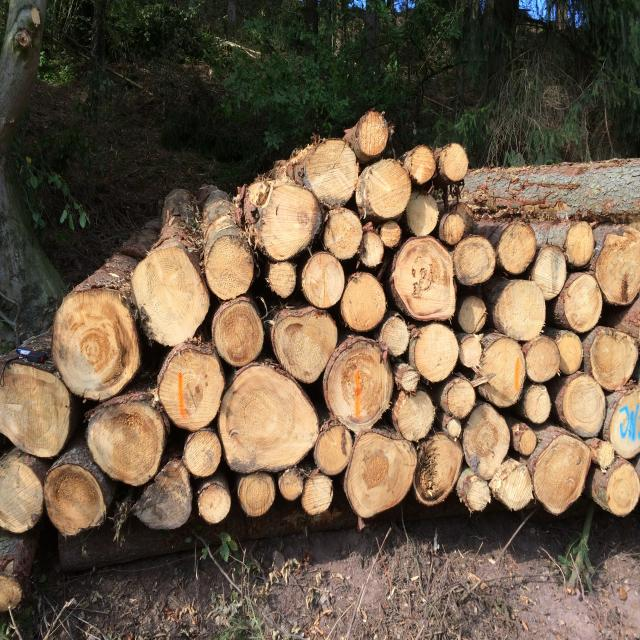wood-log: (216, 363, 317, 473), (52, 289, 140, 401), (131, 248, 209, 346), (88, 396, 168, 488), (322, 336, 394, 430), (0, 361, 70, 457), (344, 432, 417, 520), (158, 348, 227, 429), (390, 240, 455, 322), (273, 309, 341, 385), (255, 181, 321, 259), (534, 429, 594, 512), (44, 464, 106, 536), (137, 462, 194, 529), (463, 403, 513, 477), (305, 140, 361, 206), (210, 297, 263, 366), (412, 434, 462, 506), (0, 455, 44, 535), (476, 336, 526, 406), (594, 230, 640, 304), (201, 237, 254, 301), (559, 372, 608, 437), (358, 158, 411, 217), (588, 328, 636, 391), (495, 279, 546, 338), (339, 271, 387, 330), (411, 322, 459, 381), (559, 271, 605, 332), (302, 252, 346, 308), (392, 391, 438, 442), (610, 388, 640, 460), (453, 235, 496, 285), (497, 221, 537, 274), (326, 207, 366, 260), (530, 248, 569, 302), (491, 460, 532, 510), (315, 423, 352, 477), (183, 430, 221, 478), (355, 111, 392, 159), (608, 462, 640, 516), (524, 334, 558, 382), (238, 473, 274, 517), (406, 194, 442, 236), (442, 377, 478, 418), (564, 221, 596, 267), (198, 479, 232, 522), (378, 317, 411, 360), (459, 472, 492, 512), (406, 146, 438, 186), (303, 474, 333, 515), (521, 383, 551, 424), (457, 296, 488, 334), (555, 332, 583, 374), (439, 145, 470, 182), (266, 263, 297, 298), (618, 297, 640, 339), (0, 575, 21, 612), (396, 365, 422, 394), (280, 470, 302, 500), (379, 220, 402, 248)
